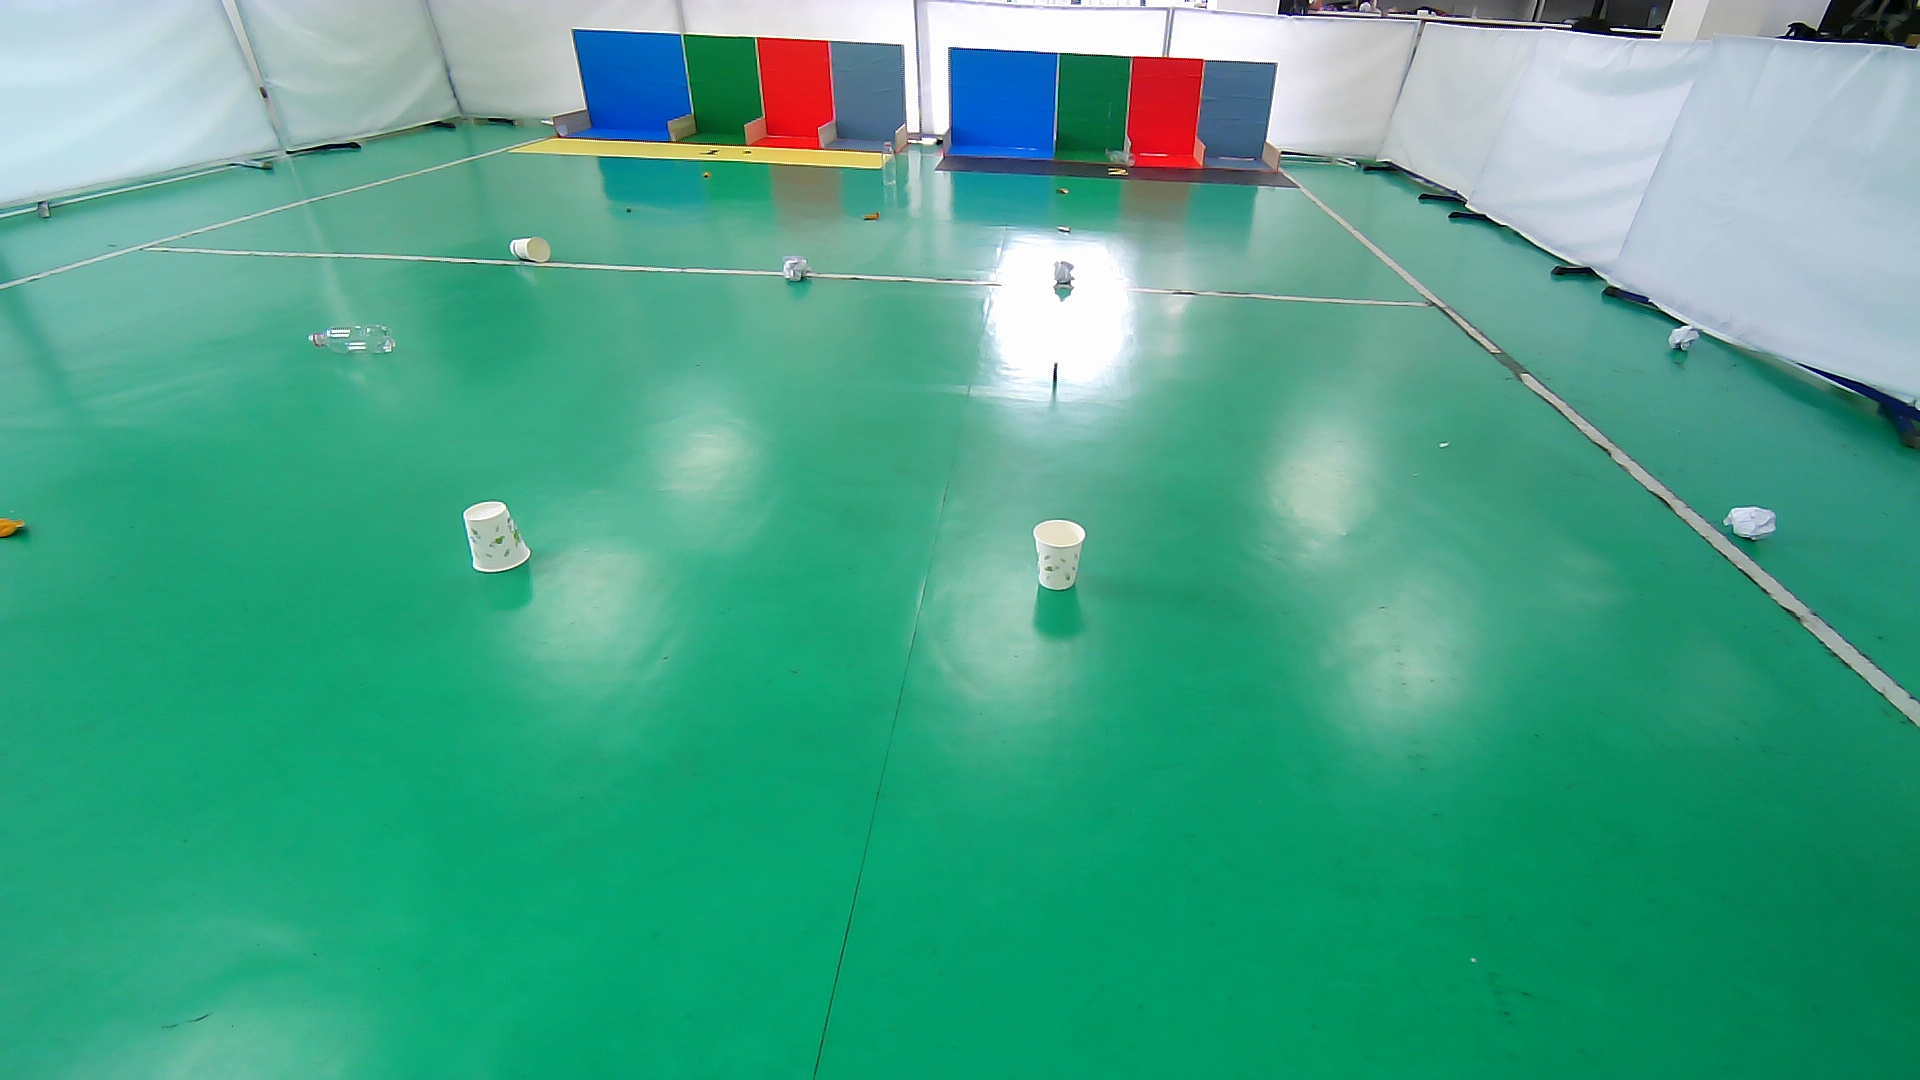battery: (1046, 357, 1064, 390), (1051, 222, 1080, 237), (618, 202, 640, 219)
bottle: (305, 316, 400, 360), (880, 140, 898, 189)
orangepeel: (1, 506, 34, 549), (857, 204, 887, 229)
papercup: (458, 495, 538, 580), (1027, 516, 1091, 596), (505, 231, 553, 264)
spitball: (1721, 502, 1780, 545), (1665, 320, 1704, 356), (781, 253, 811, 284), (1051, 256, 1077, 290)
